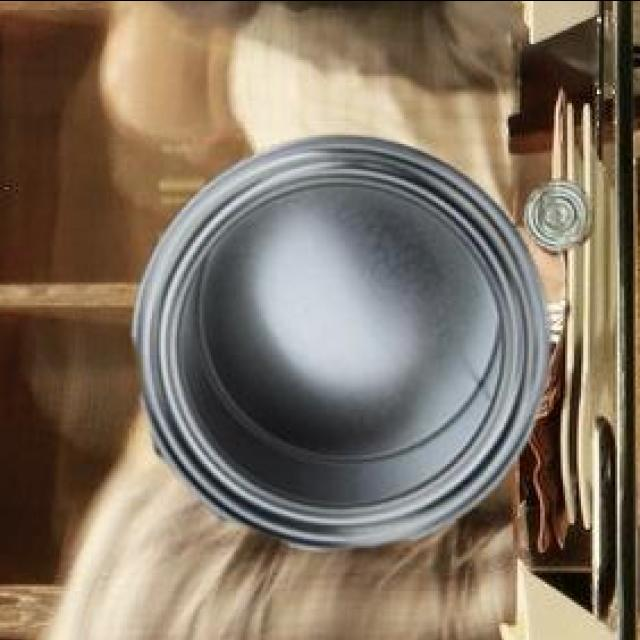logam: (128, 133, 546, 546), (521, 176, 589, 251)
